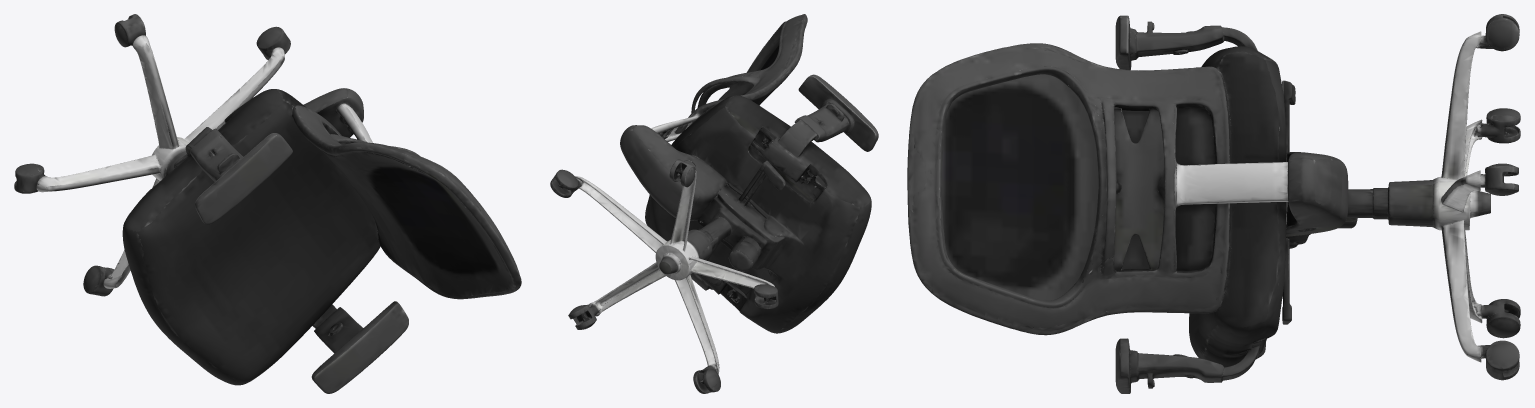
The picture shows the model from 3 angles, left to right: view 1: azimuth 30°, elevation 25°; view 2: azimuth 150°, elevation 25°; view 3: azimuth 270°, elevation 25°; orthographic projection. The views are drawn at different scales.
Visible parts, largest first — view 1: Mesh_0.007; view 2: Mesh_0.007; view 3: Mesh_0.007.
Boxes of the visible parts, bbox=[...] form: Mesh_0.007: bbox=[14, 14, 521, 393]; Mesh_0.007: bbox=[550, 14, 878, 393]; Mesh_0.007: bbox=[907, 14, 1520, 393].
Bounding box in the file's own units: 0.0212 × 0.0209 × 0.0323.
1 material, 1 textured.
